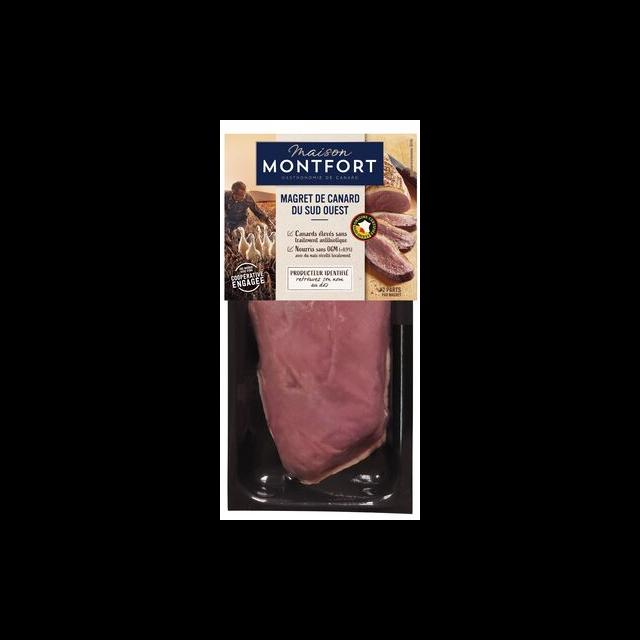beef: (251, 300, 393, 482)
